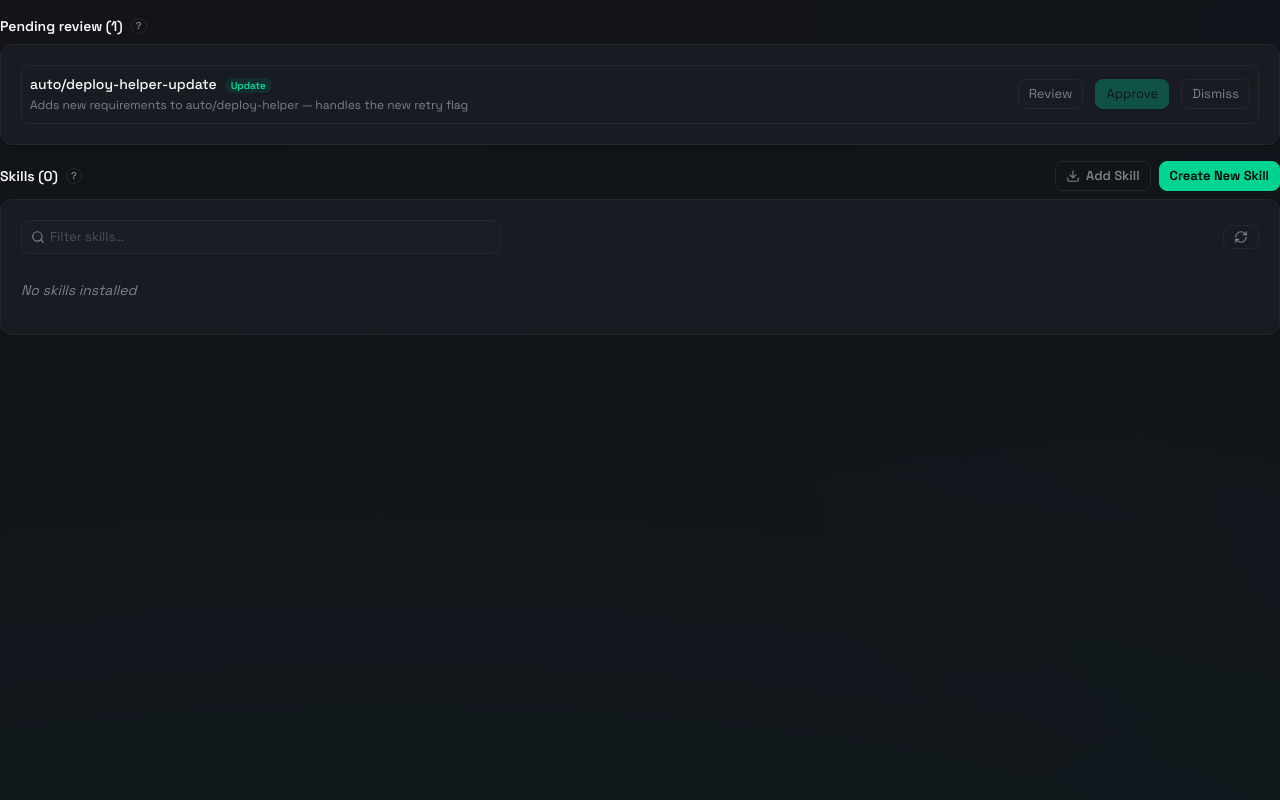
Test case: SkillsTab pending updates › blocks approval when the live skill advanced past the update base version
The image size is (1280, 800).
Click the button "Review".
click(1050, 94)  # box [1018,79,1083,109]
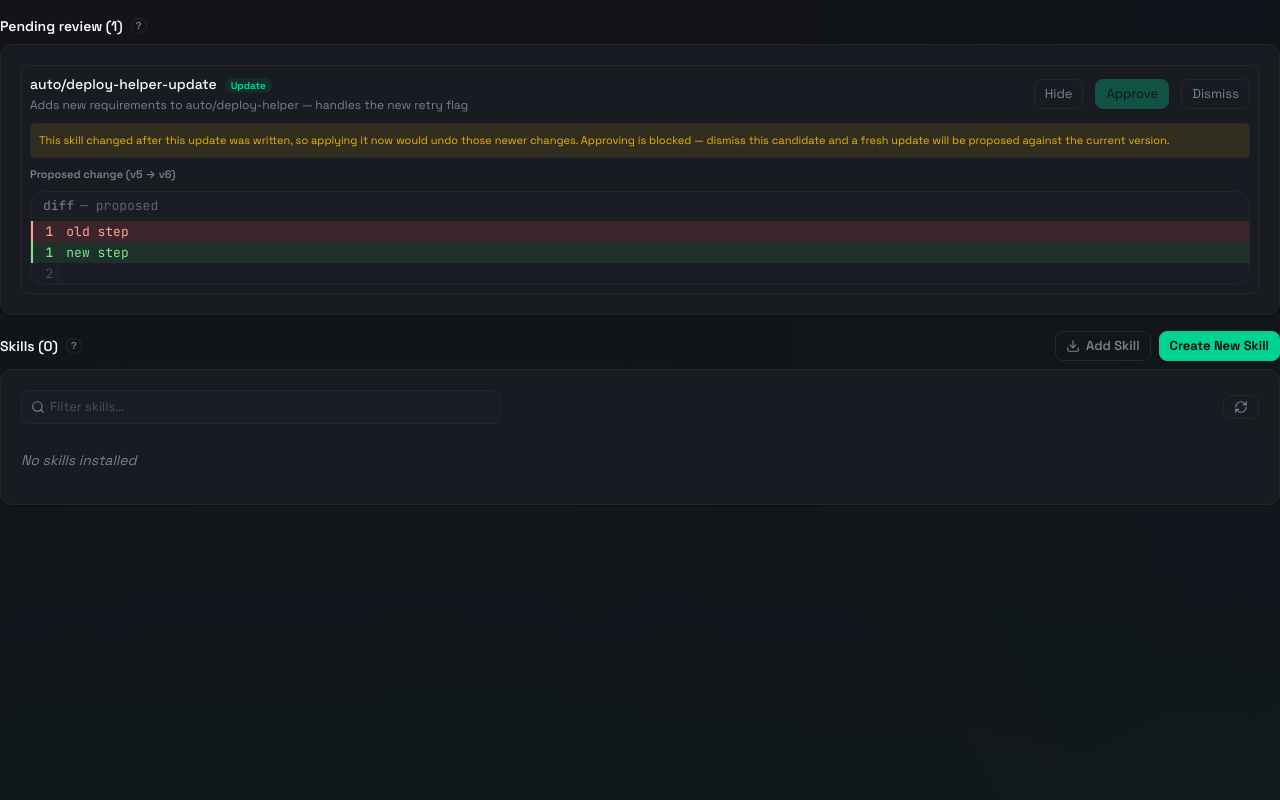
Expected: the button "Approve" is disabled, [1096,79,1169,109]
Result: the text "would undo those newer changes" is shown at [39,133,1170,147]
